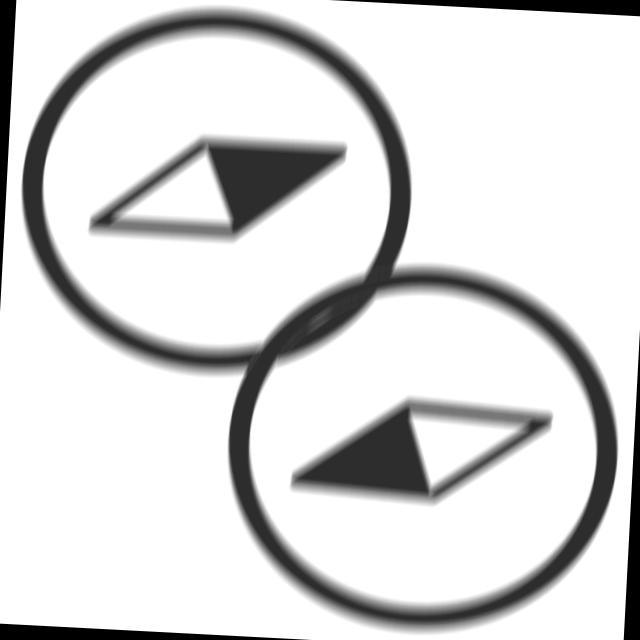compass: (3, 1, 436, 404), (205, 240, 634, 640)
